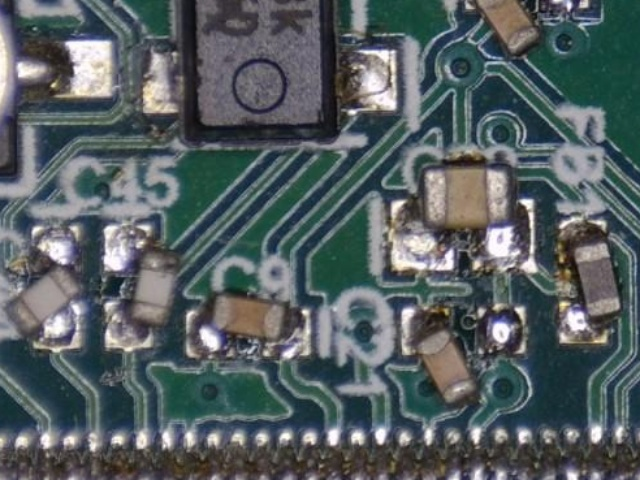pcb_defect: (389, 163, 539, 274), (401, 304, 528, 407), (0, 222, 88, 353), (101, 221, 183, 353), (556, 219, 624, 347), (184, 294, 312, 361)
